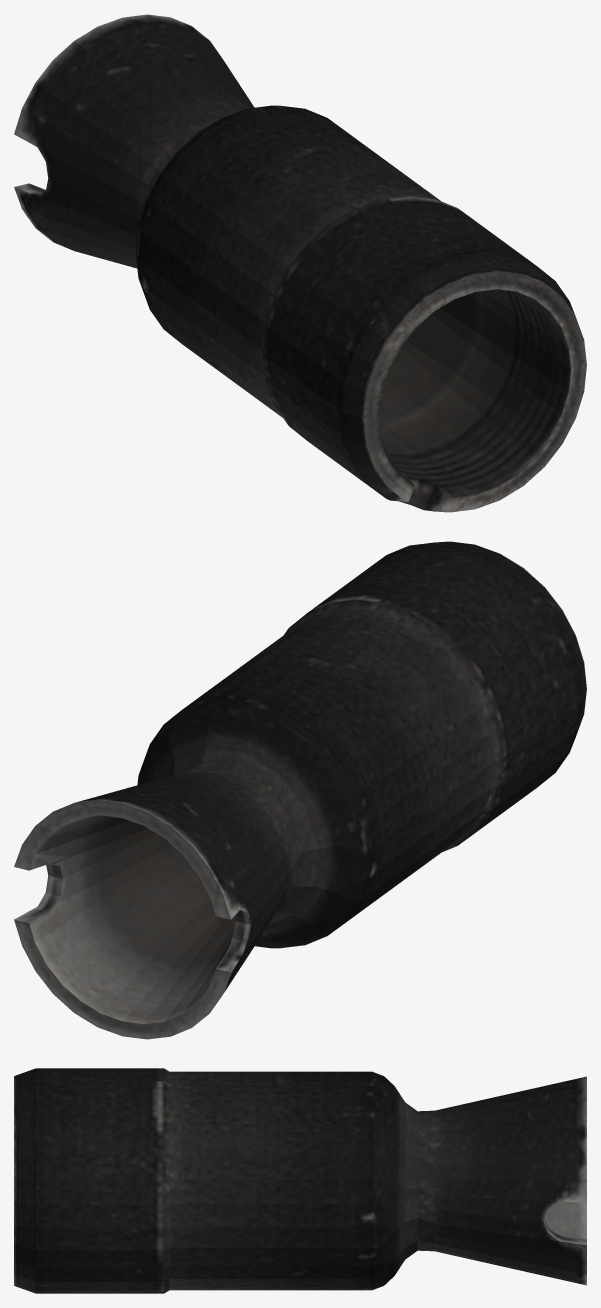
The picture shows the model from 3 angles, top to bottom: view 1: azimuth 30°, elevation 25°; view 2: azimuth 150°, elevation 25°; view 3: azimuth 270°, elevation 25°; orthographic projection. The views are drawn at different scales.
Parts seen in each view (by area): view 1: TW_5ac72e895acfc43b321d4bd5_PZ_Import; view 2: TW_5ac72e895acfc43b321d4bd5_PZ_Import; view 3: TW_5ac72e895acfc43b321d4bd5_PZ_Import.
Boxes of the visible parts, x1,y1,x2,y2 form: TW_5ac72e895acfc43b321d4bd5_PZ_Import: [14, 14, 586, 512]; TW_5ac72e895acfc43b321d4bd5_PZ_Import: [14, 541, 586, 1039]; TW_5ac72e895acfc43b321d4bd5_PZ_Import: [14, 1068, 586, 1293].
Size of the model in its own units: 0.0162 by 0.0412 by 0.0162.
1 material, 1 textured.
